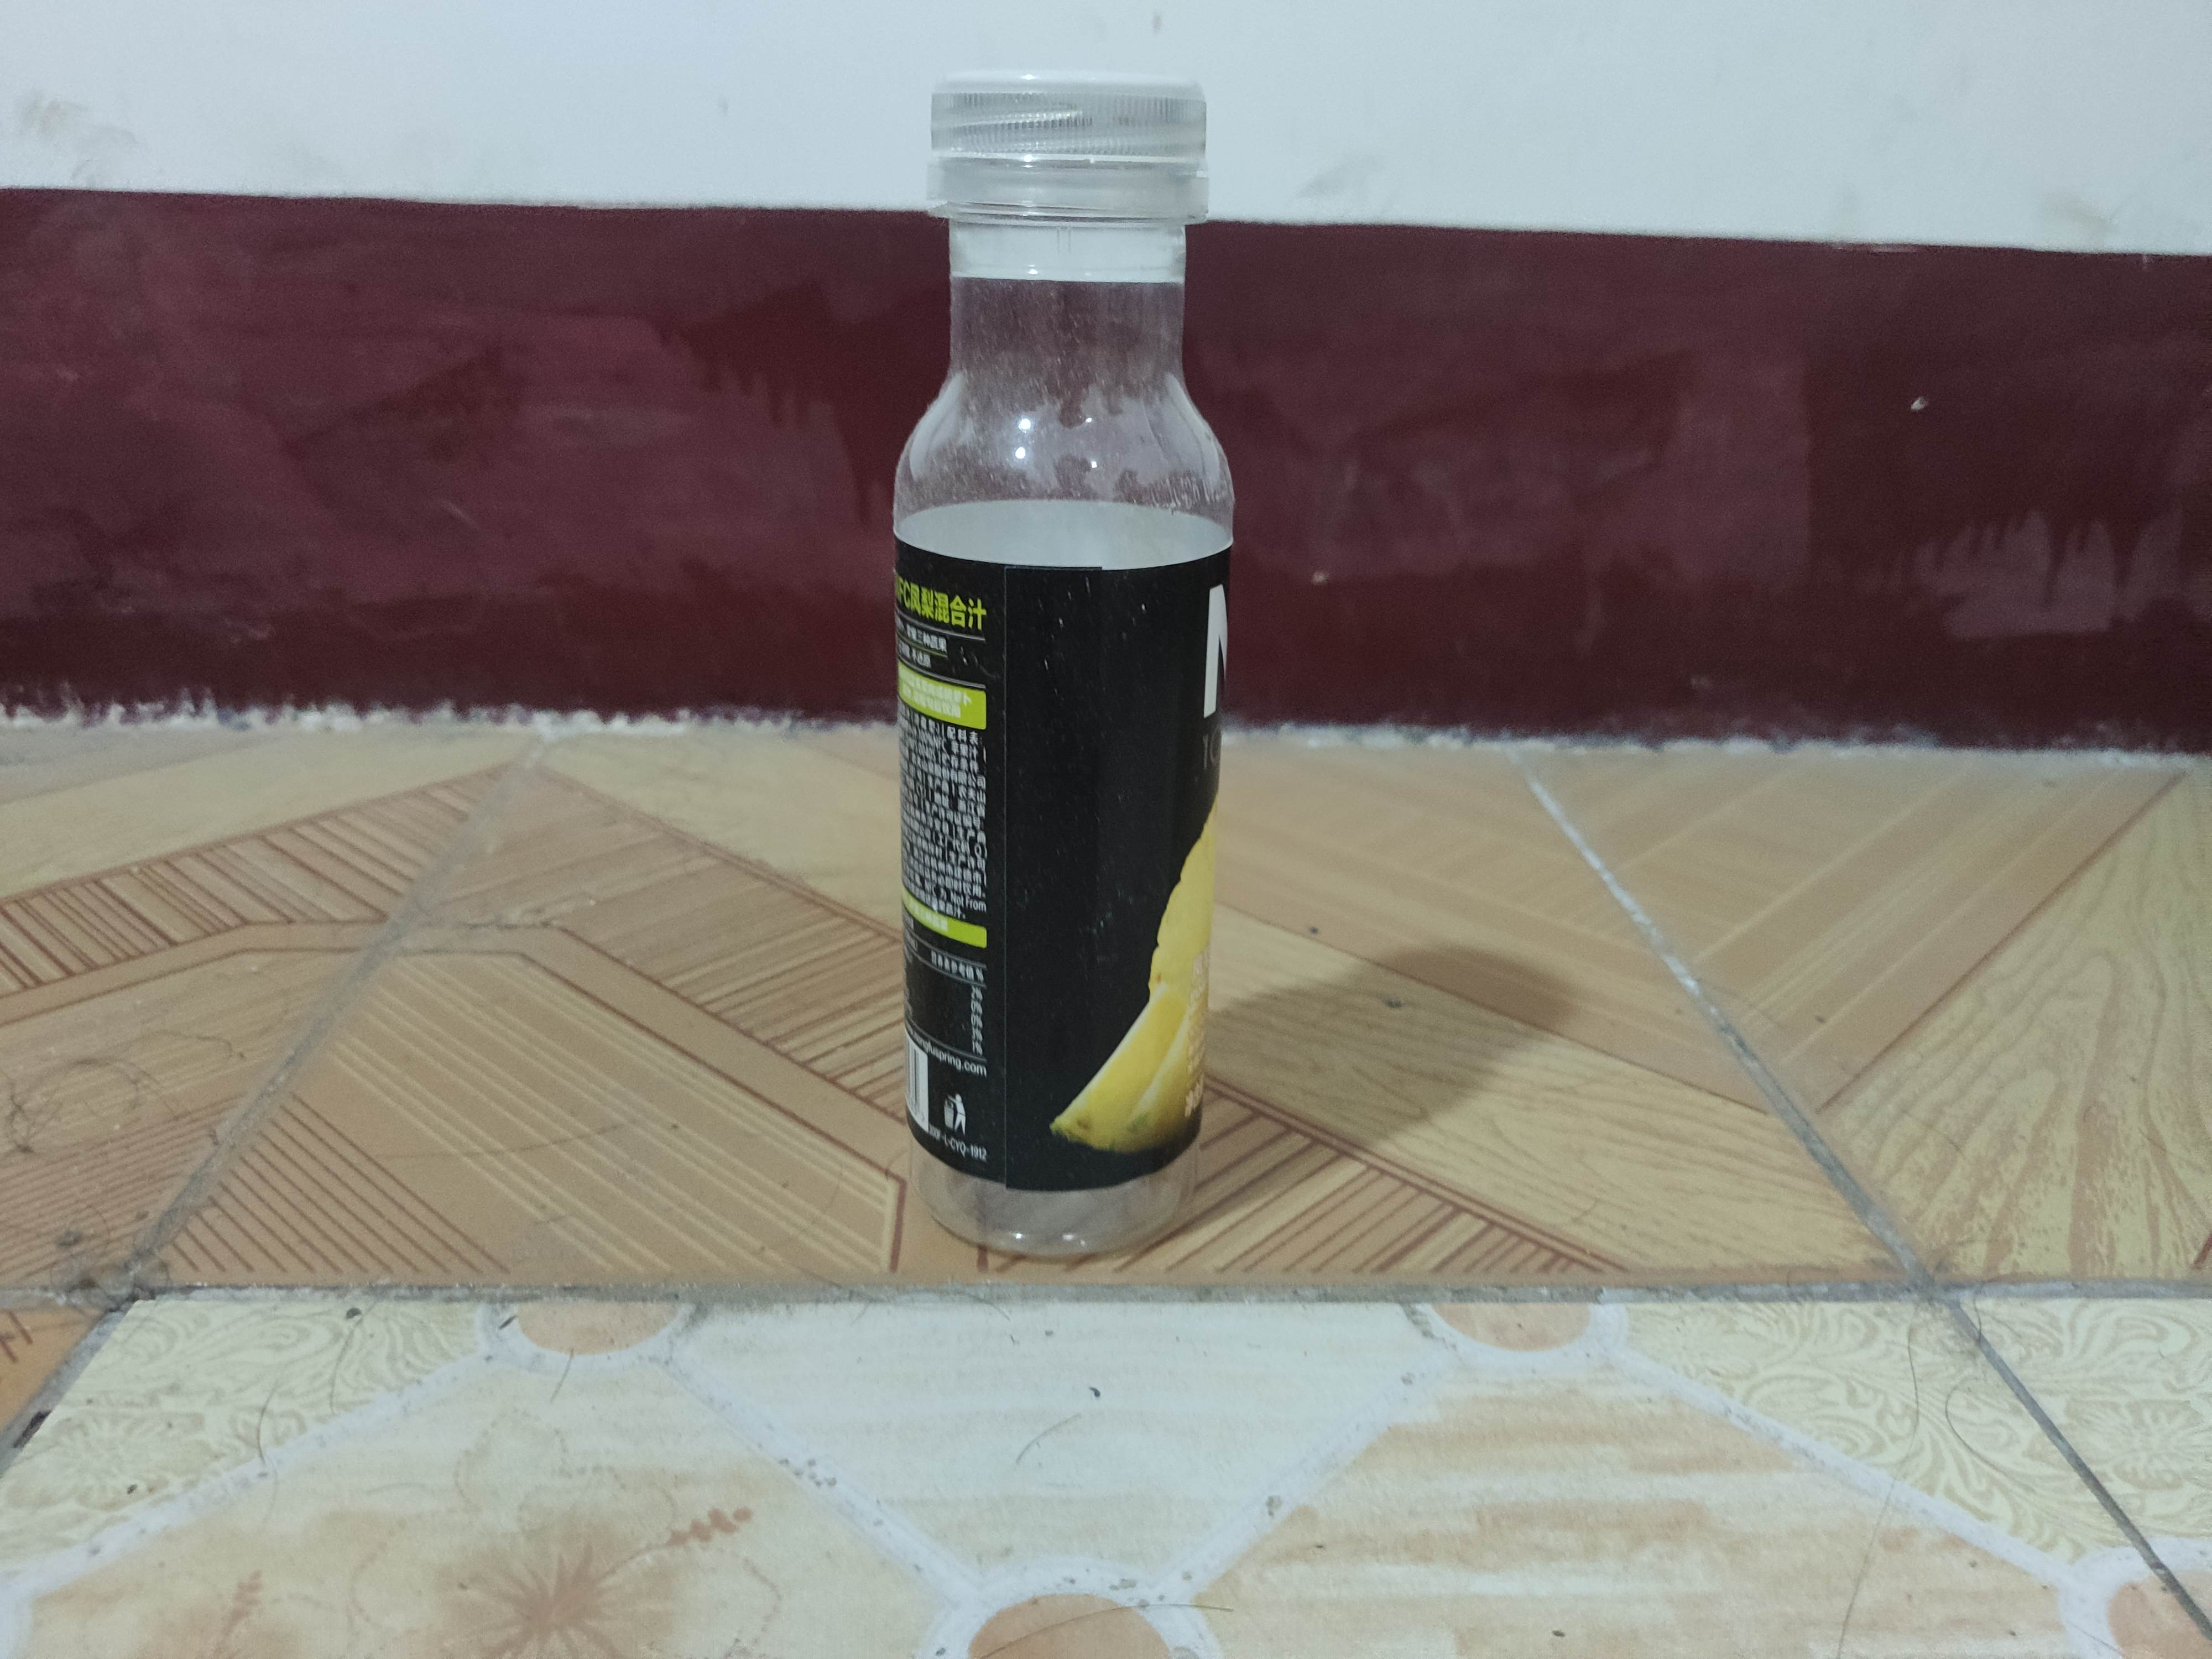Plastic Bottle: (887, 64, 1238, 1267)
